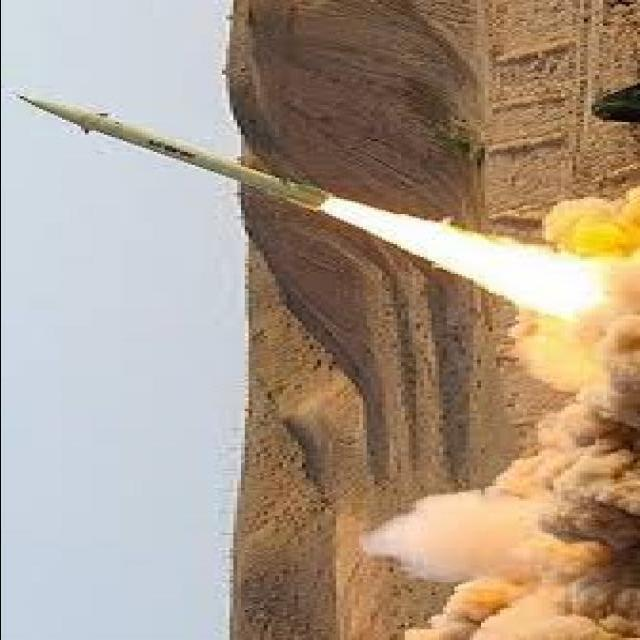missile: (16, 89, 332, 213)
